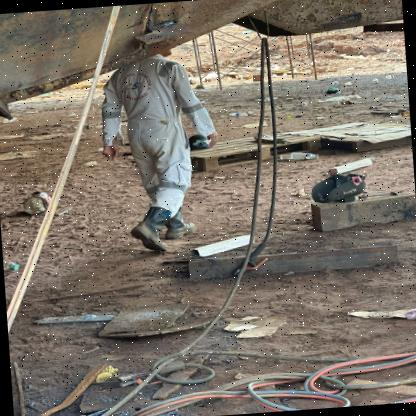bota: (130, 205, 174, 254), (166, 204, 202, 240)
